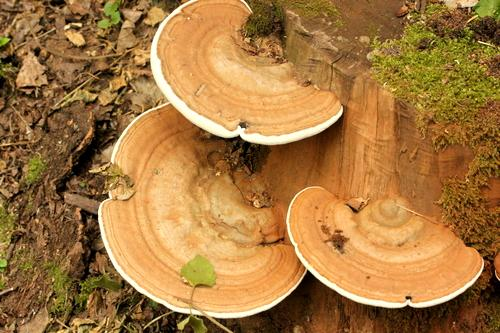Ganoderma - Fruit Body: (95, 101, 305, 325), (142, 0, 347, 145), (279, 184, 483, 313)
